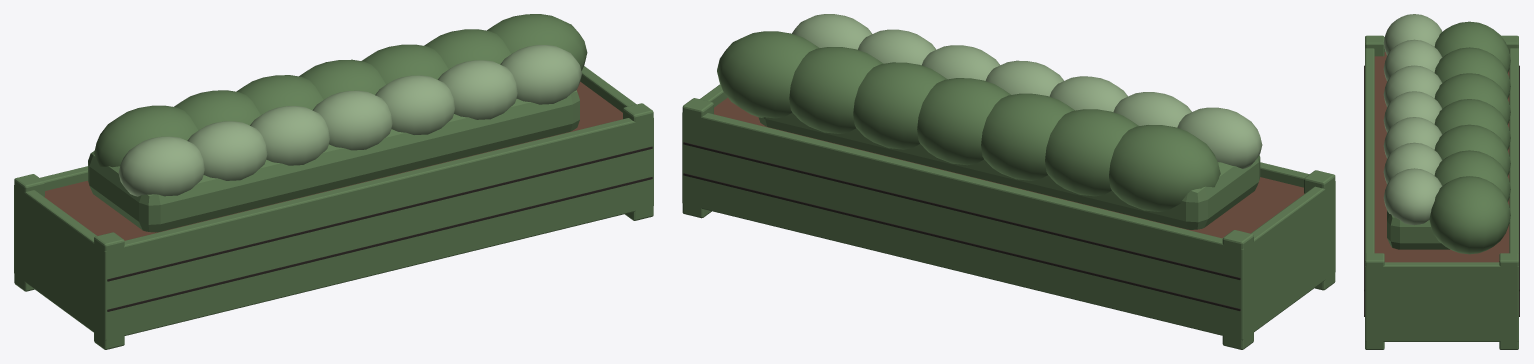
The model's file is hh_cat_tree_box.glb.
3 views of the same model, side by side, from view 1: azimuth 30°, elevation 25°; view 2: azimuth 150°, elevation 25°; view 3: azimuth 270°, elevation 25° (orthographic). The views are drawn at different scales.
Visible parts, largest first — view 1: side, hedge, side.001, planter_soil, leaves, leaves.012, leaves.010, leaves.002, leaves.008, leaves.006, leaves.004, leaves.001 (+13 smaller); view 2: side.002, hedge, side.001, leaves.001, leaves.013, leaves.009, leaves.003, leaves.005, leaves.007, leaves.011, planter_soil, leaves (+12 smaller); view 3: side.003, leaves.013, planter_soil, side, side.002, leaves.012, leaves.005, leaves.007, leaves.011, leaves.001, leaves.003, leaves.009 (+13 smaller).
Boxes of the visible parts, box(x1,y1,x2,y2) form: side: box(100, 117, 653, 340); hedge: box(88, 90, 579, 232); side.001: box(20, 190, 98, 334); planter_soil: box(44, 81, 622, 240); leaves: box(118, 136, 204, 196); leaves.012: box(500, 45, 581, 104); leaves.010: box(438, 60, 517, 119); leaves.002: box(187, 121, 267, 180); leaves.008: box(375, 75, 454, 134); leaves.006: box(312, 90, 392, 150); leaves.004: box(250, 106, 329, 165); leaves.001: box(94, 105, 198, 167); side.002: box(682, 112, 1246, 340); hedge: box(758, 112, 1260, 229); side.001: box(1251, 186, 1325, 331); leaves.001: box(1109, 125, 1220, 211); leaves.013: box(717, 31, 819, 118); leaves.009: box(853, 62, 946, 149); leaves.003: box(1045, 109, 1138, 196); leaves.005: box(981, 93, 1074, 180); leaves.007: box(917, 78, 1010, 165); leaves.011: box(789, 47, 883, 133); planter_soil: box(714, 97, 1304, 238); leaves: box(1177, 107, 1262, 168); side.003: box(1376, 262, 1507, 341); leaves.013: box(1429, 176, 1510, 254); planter_soil: box(1374, 52, 1509, 262); side: box(1365, 48, 1374, 341); side.002: box(1509, 48, 1518, 341); leaves.012: box(1383, 168, 1442, 225); leaves.005: box(1434, 73, 1510, 124); leaves.007: box(1434, 99, 1510, 150); leaves.011: box(1434, 150, 1510, 201); leaves.001: box(1434, 21, 1510, 73); leaves.003: box(1434, 47, 1510, 98); leaves.009: box(1434, 124, 1510, 176).
Size of the model in its own units: 1.2 by 0.35 by 0.35.
